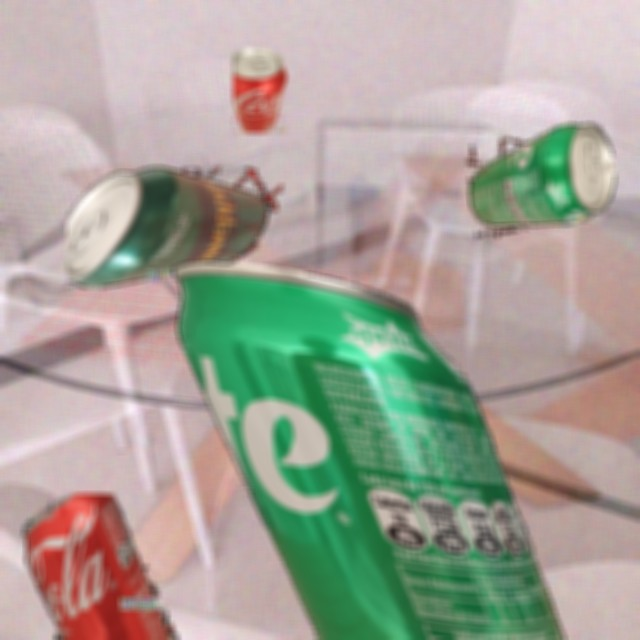coca cola: (0, 494, 199, 640), (233, 48, 288, 133)
schweppes: (67, 116, 283, 303)
sprite: (162, 245, 625, 640), (442, 98, 640, 263)
